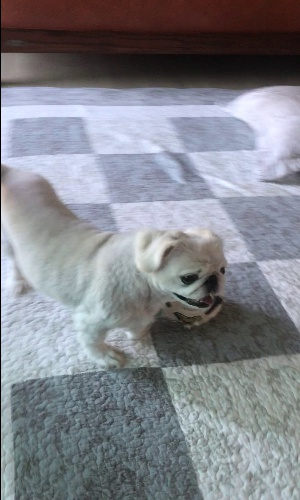ddubi: (1, 151, 231, 375)
